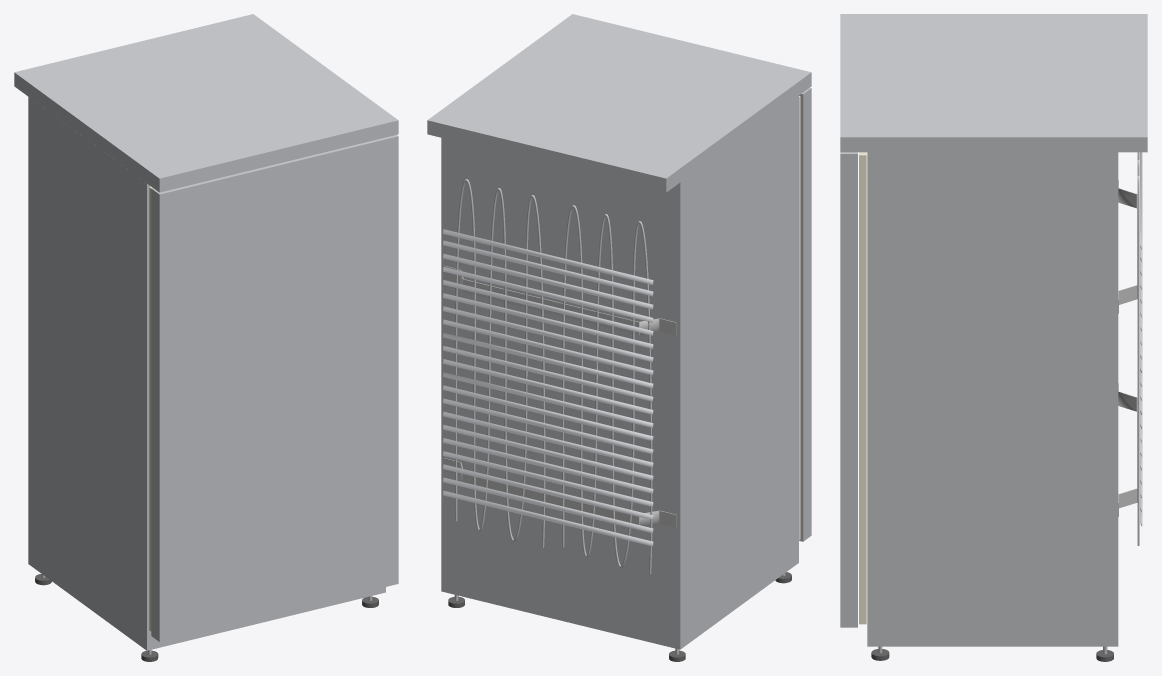
File: sweethome3d-contributions-fridge-333.glb
3 renders of one model, left to right at view 1: azimuth 30°, elevation 25°; view 2: azimuth 150°, elevation 25°; view 3: azimuth 270°, elevation 25°, orthographic. The views are drawn at different scales.
Visible parts, largest first — view 1: Cube_4_3, Cube_1_1, Cube_2_2, Cube_4_1_12; view 2: Cube_1_1, Cube_2_2, Cube_4_3, Tube_1_13, Tube_1_1_14, Cube_8_36, Cube_8_9_45, Cube_6_15, Cube_6_7_22, Cube_6_13_28, Cube_6_14_29, Cube_6_19_34 (+17 smaller); view 3: Cube_1_1, Cube_2_2, Cube_4_3, Cube_4_1_12, Tube_1_1_14.
Part boxes in pixels (left/top/right/bottom): Cube_4_3: left=151, top=135, right=398, bottom=641; Cube_1_1: left=28, top=97, right=385, bottom=650; Cube_2_2: left=14, top=14, right=398, bottom=192; Cube_4_1_12: left=149, top=186, right=152, bottom=631; Cube_1_1: left=441, top=96, right=798, bottom=649; Cube_2_2: left=427, top=14, right=811, bottom=192; Cube_4_3: left=799, top=87, right=811, bottom=541; Tube_1_13: left=562, top=205, right=652, bottom=573; Tube_1_1_14: left=455, top=179, right=545, bottom=547; Cube_8_36: left=463, top=279, right=639, bottom=335; Cube_8_9_45: left=463, top=474, right=639, bottom=524; Cube_6_15: left=443, top=490, right=653, bottom=546; Cube_6_7_22: left=443, top=411, right=653, bottom=467; Cube_6_13_28: left=443, top=332, right=653, bottom=388; Cube_6_14_29: left=443, top=319, right=653, bottom=375; Cube_6_19_34: left=443, top=253, right=653, bottom=309; Cube_1_1: left=867, top=152, right=1118, bottom=646; Cube_2_2: left=840, top=14, right=1147, bottom=152; Cube_4_3: left=840, top=152, right=857, bottom=627; Cube_4_1_12: left=859, top=152, right=866, bottom=624; Tube_1_1_14: left=1137, top=152, right=1139, bottom=545.
Size of the model in its own units: 57 by 113 by 60.04.
